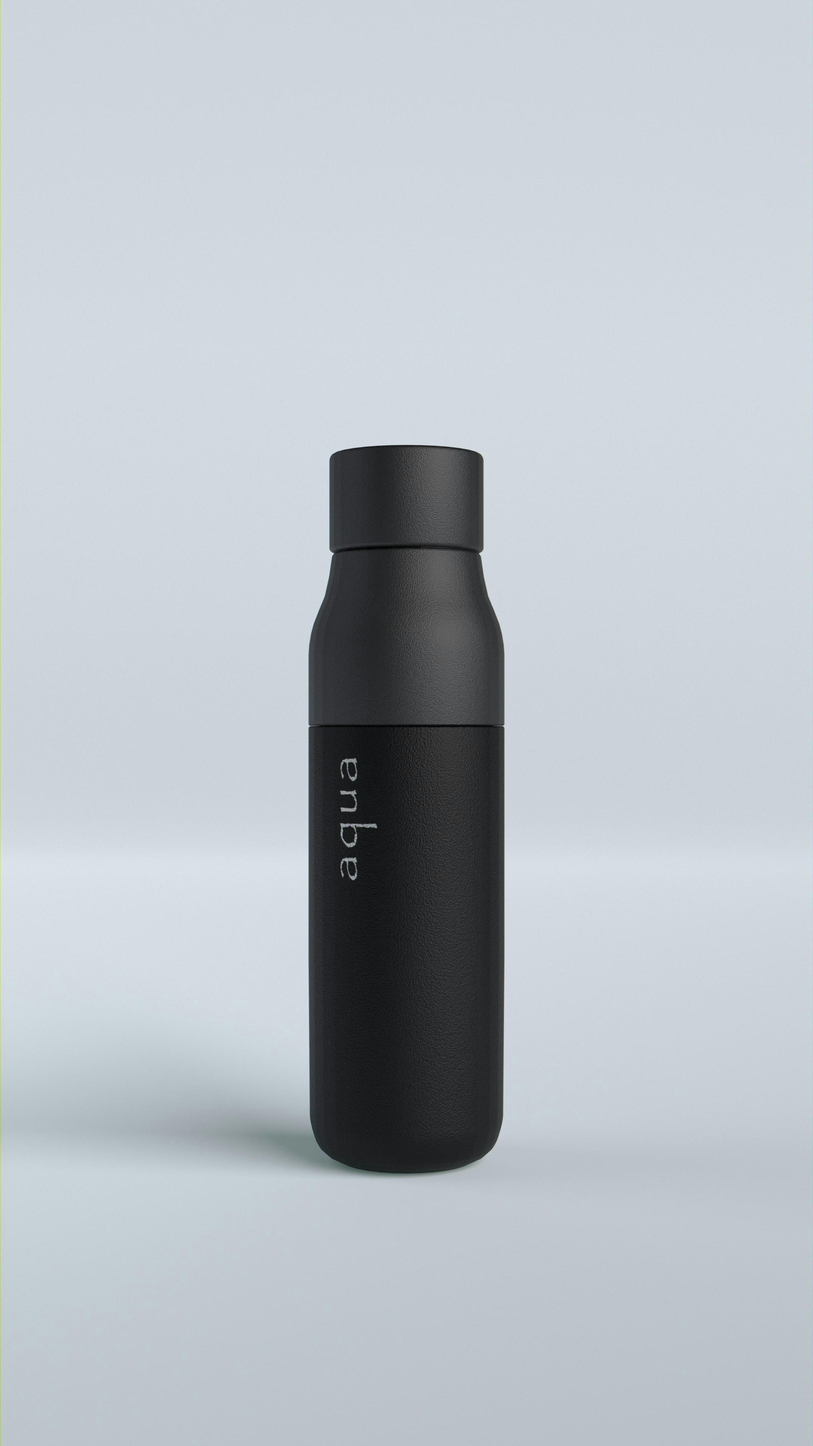Bottle-Detection: (203, 331, 651, 1277)
